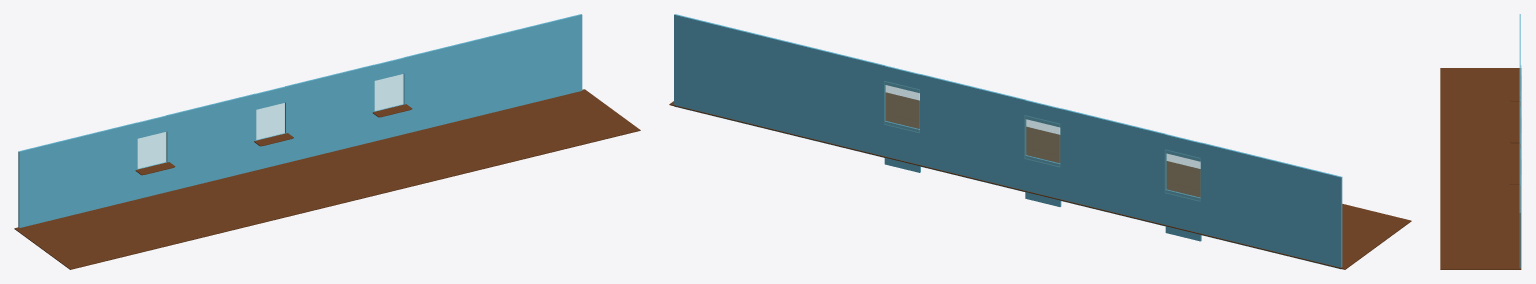
Rendered from room2.fbx.
3 renders of one model, left to right at view 1: azimuth 30°, elevation 25°; view 2: azimuth 150°, elevation 25°; view 3: azimuth 270°, elevation 25°, orthographic. The views are drawn at different scales.
Parts seen in each view (by area): view 1: Cube.001, Cube.025, Cube.017, Cube.018, Cube.028, Cube.008, Cube.007, Cube.027, Cube.013, Cube.024, Cube.026, Cube.014 (+14 smaller); view 2: Cube.001, Cube.018, Cube.002, Cube.013, Cube.023, Cube, Cube.025, Cube.028, Cube.007, Cube.026, Cube.008, Cube.027 (+14 smaller); view 3: Cube.001, Cube.012, Cube.028, Cube.006, Cube.022.
Part boxes in pixels (x1=…): Cube.001: x1=14, y1=89, x2=640, y2=269; Cube.025: x1=463, y1=35, x2=493, y2=119; Cube.017: x1=48, y1=137, x2=78, y2=220; Cube.018: x1=18, y1=144, x2=48, y2=227; Cube.028: x1=552, y1=14, x2=582, y2=97; Cube.008: x1=226, y1=93, x2=256, y2=177; Cube.007: x1=196, y1=100, x2=226, y2=184; Cube.027: x1=522, y1=21, x2=552, y2=105; Cube.013: x1=285, y1=79, x2=315, y2=162; Cube.024: x1=433, y1=43, x2=463, y2=126; Cube.026: x1=493, y1=28, x2=522, y2=112; Cube.014: x1=315, y1=72, x2=344, y2=155; Cube.001: x1=669, y1=92, x2=1411, y2=269; Cube.018: x1=1306, y1=168, x2=1342, y2=269; Cube.002: x1=1130, y1=125, x2=1166, y2=226; Cube.013: x1=990, y1=91, x2=1026, y2=191; Cube.023: x1=849, y1=57, x2=885, y2=157; Cube: x1=1200, y1=142, x2=1236, y2=243; Cube.025: x1=779, y1=39, x2=815, y2=140; Cube.028: x1=674, y1=14, x2=709, y2=114; Cube.007: x1=1095, y1=117, x2=1130, y2=217; Cube.026: x1=744, y1=31, x2=779, y2=131; Cube.008: x1=1060, y1=108, x2=1095, y2=208; Cube.027: x1=709, y1=22, x2=744, y2=123; Cube.001: x1=1440, y1=68, x2=1521, y2=269; Cube.012: x1=1510, y1=130, x2=1519, y2=143; Cube.028: x1=1519, y1=202, x2=1520, y2=268; Cube.006: x1=1510, y1=89, x2=1519, y2=101; Cube.022: x1=1510, y1=172, x2=1519, y2=184.
Bounding box in the file's own units: 7699 × 1070 × 1318.
